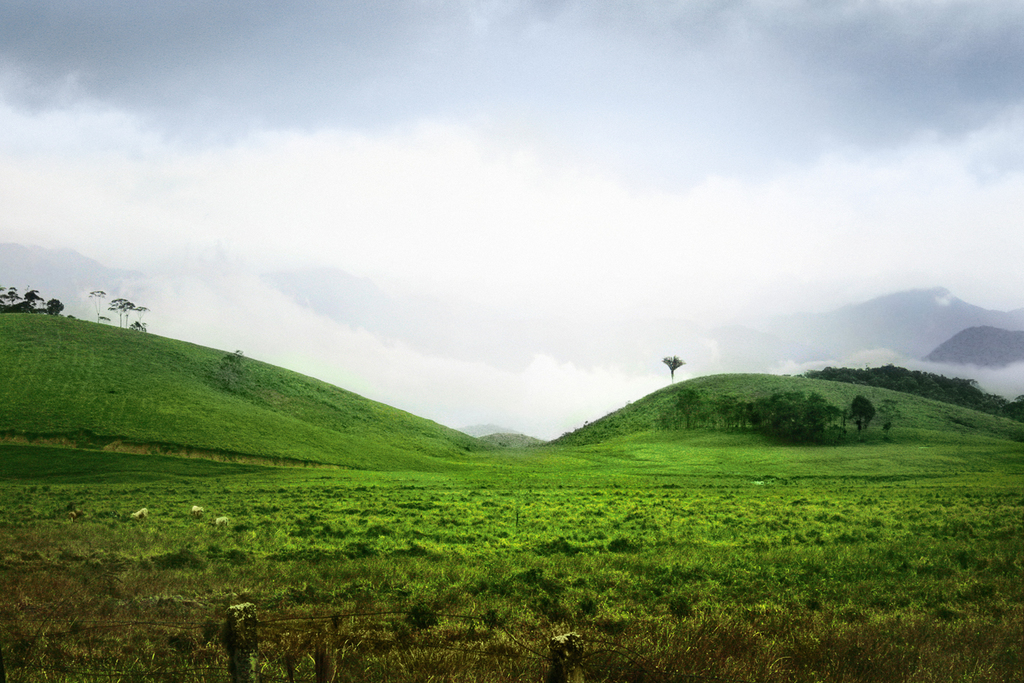Tree: (717, 392, 876, 445), (106, 295, 129, 325), (88, 288, 108, 322), (664, 357, 686, 383)
